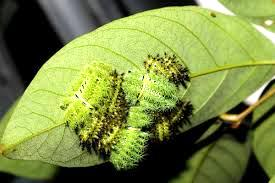Caterpillar: (107, 129, 152, 173), (95, 76, 129, 121), (146, 55, 189, 80), (133, 86, 175, 111)
Lobster Moth: (78, 74, 115, 145), (63, 64, 104, 124), (59, 61, 99, 111), (156, 123, 164, 142)
